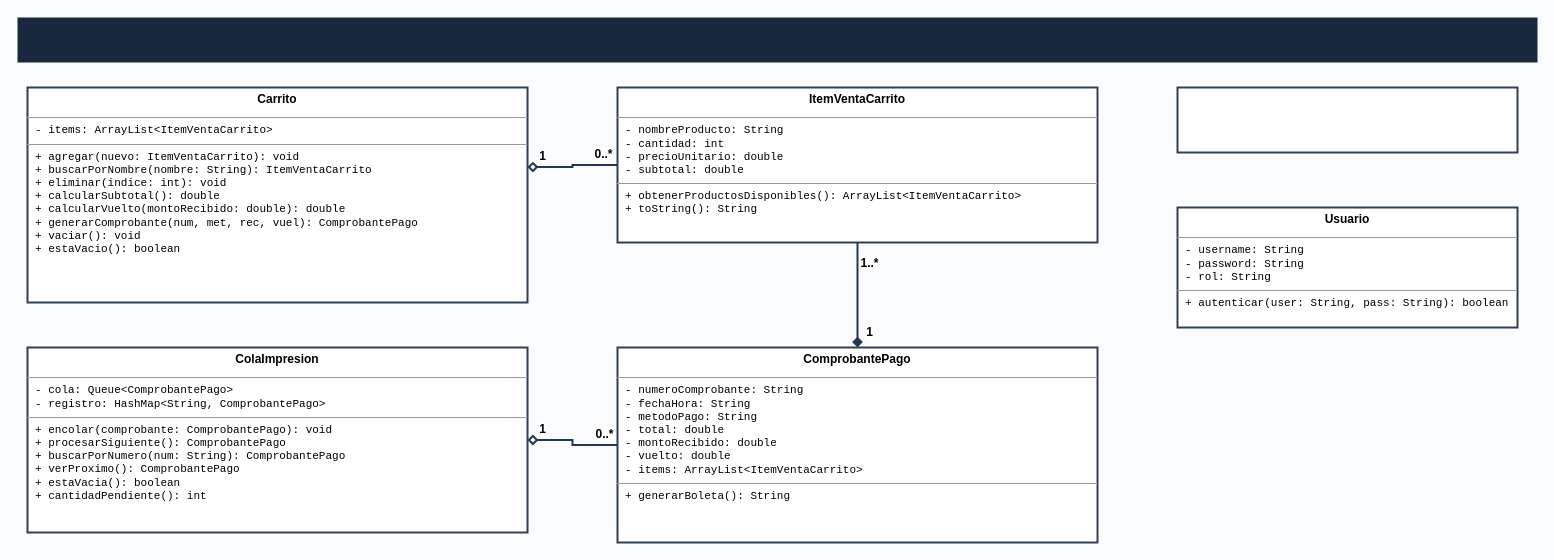
Image size: 1554x560. Some labels were removed from this diagram. Each missing label, with the centre of its shape:
"Main + main(args: String[]): void" belongs at (x=1347, y=119).
"Minimarket El Ahorro — Diagrama de Clases UML" belongs at (x=777, y=39).
